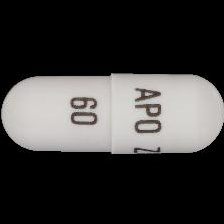58118-2530: (0, 0, 224, 224)
